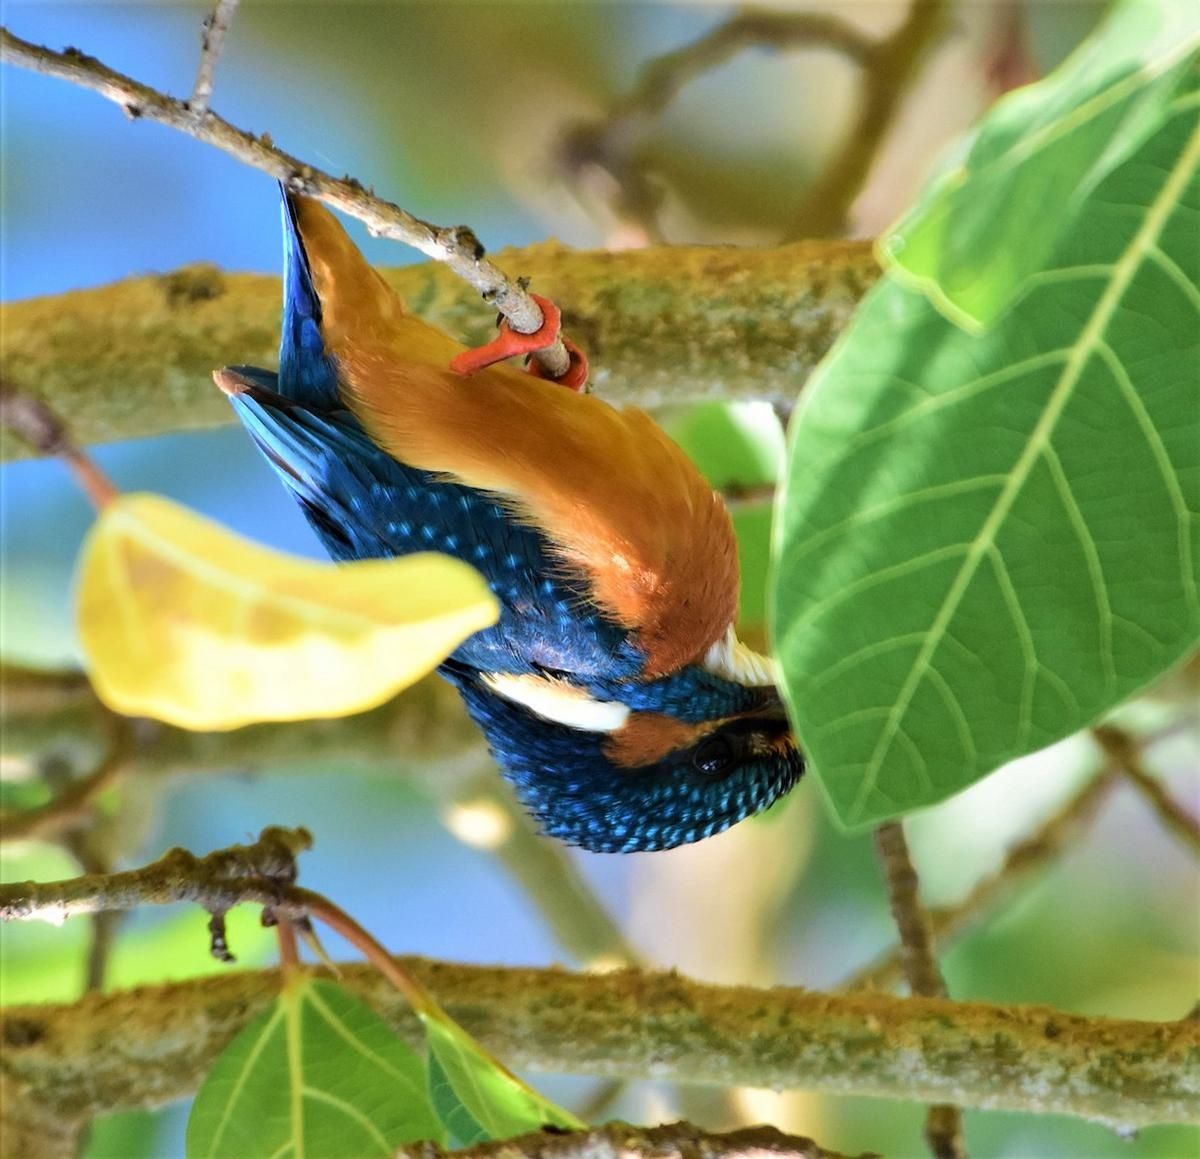kingfisher: (196, 135, 853, 887)
